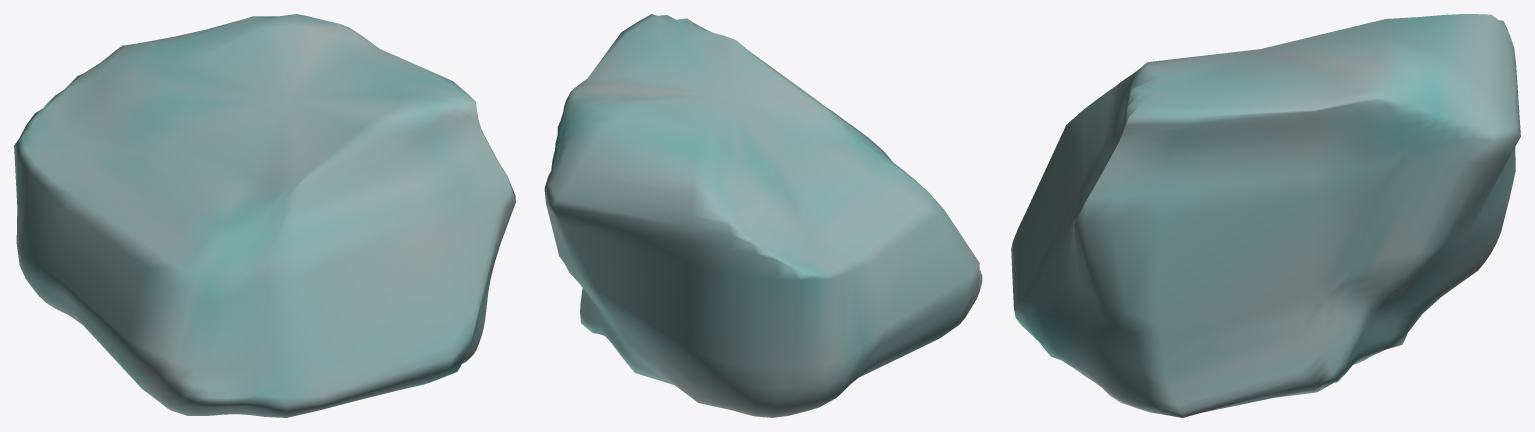
The model's file is SM_Rock_02.glb.
3 renders of one model, left to right at view 1: azimuth 30°, elevation 25°; view 2: azimuth 150°, elevation 25°; view 3: azimuth 270°, elevation 25°, orthographic. The views are drawn at different scales.
Visible parts, largest first — view 1: SM_Rock_02; view 2: SM_Rock_02; view 3: SM_Rock_02.
Part boxes in pixels (box(x1,y1,x2,y2)): SM_Rock_02: box(14, 14, 515, 417); SM_Rock_02: box(544, 14, 982, 417); SM_Rock_02: box(1011, 14, 1520, 417).
Bounding box in the file's own units: 1.06 × 0.7681 × 1.12.
